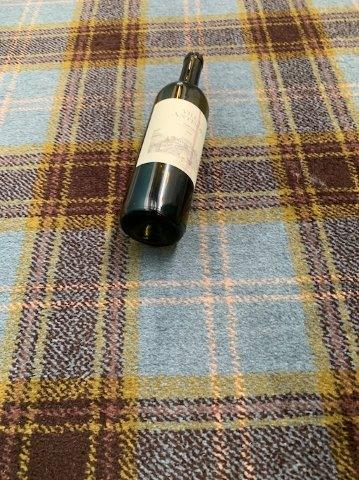botolkaca: (119, 52, 209, 246)
